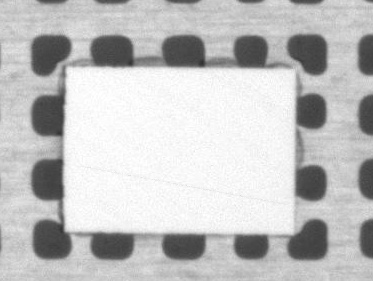DIE_CRACK: (109, 125, 373, 154)
